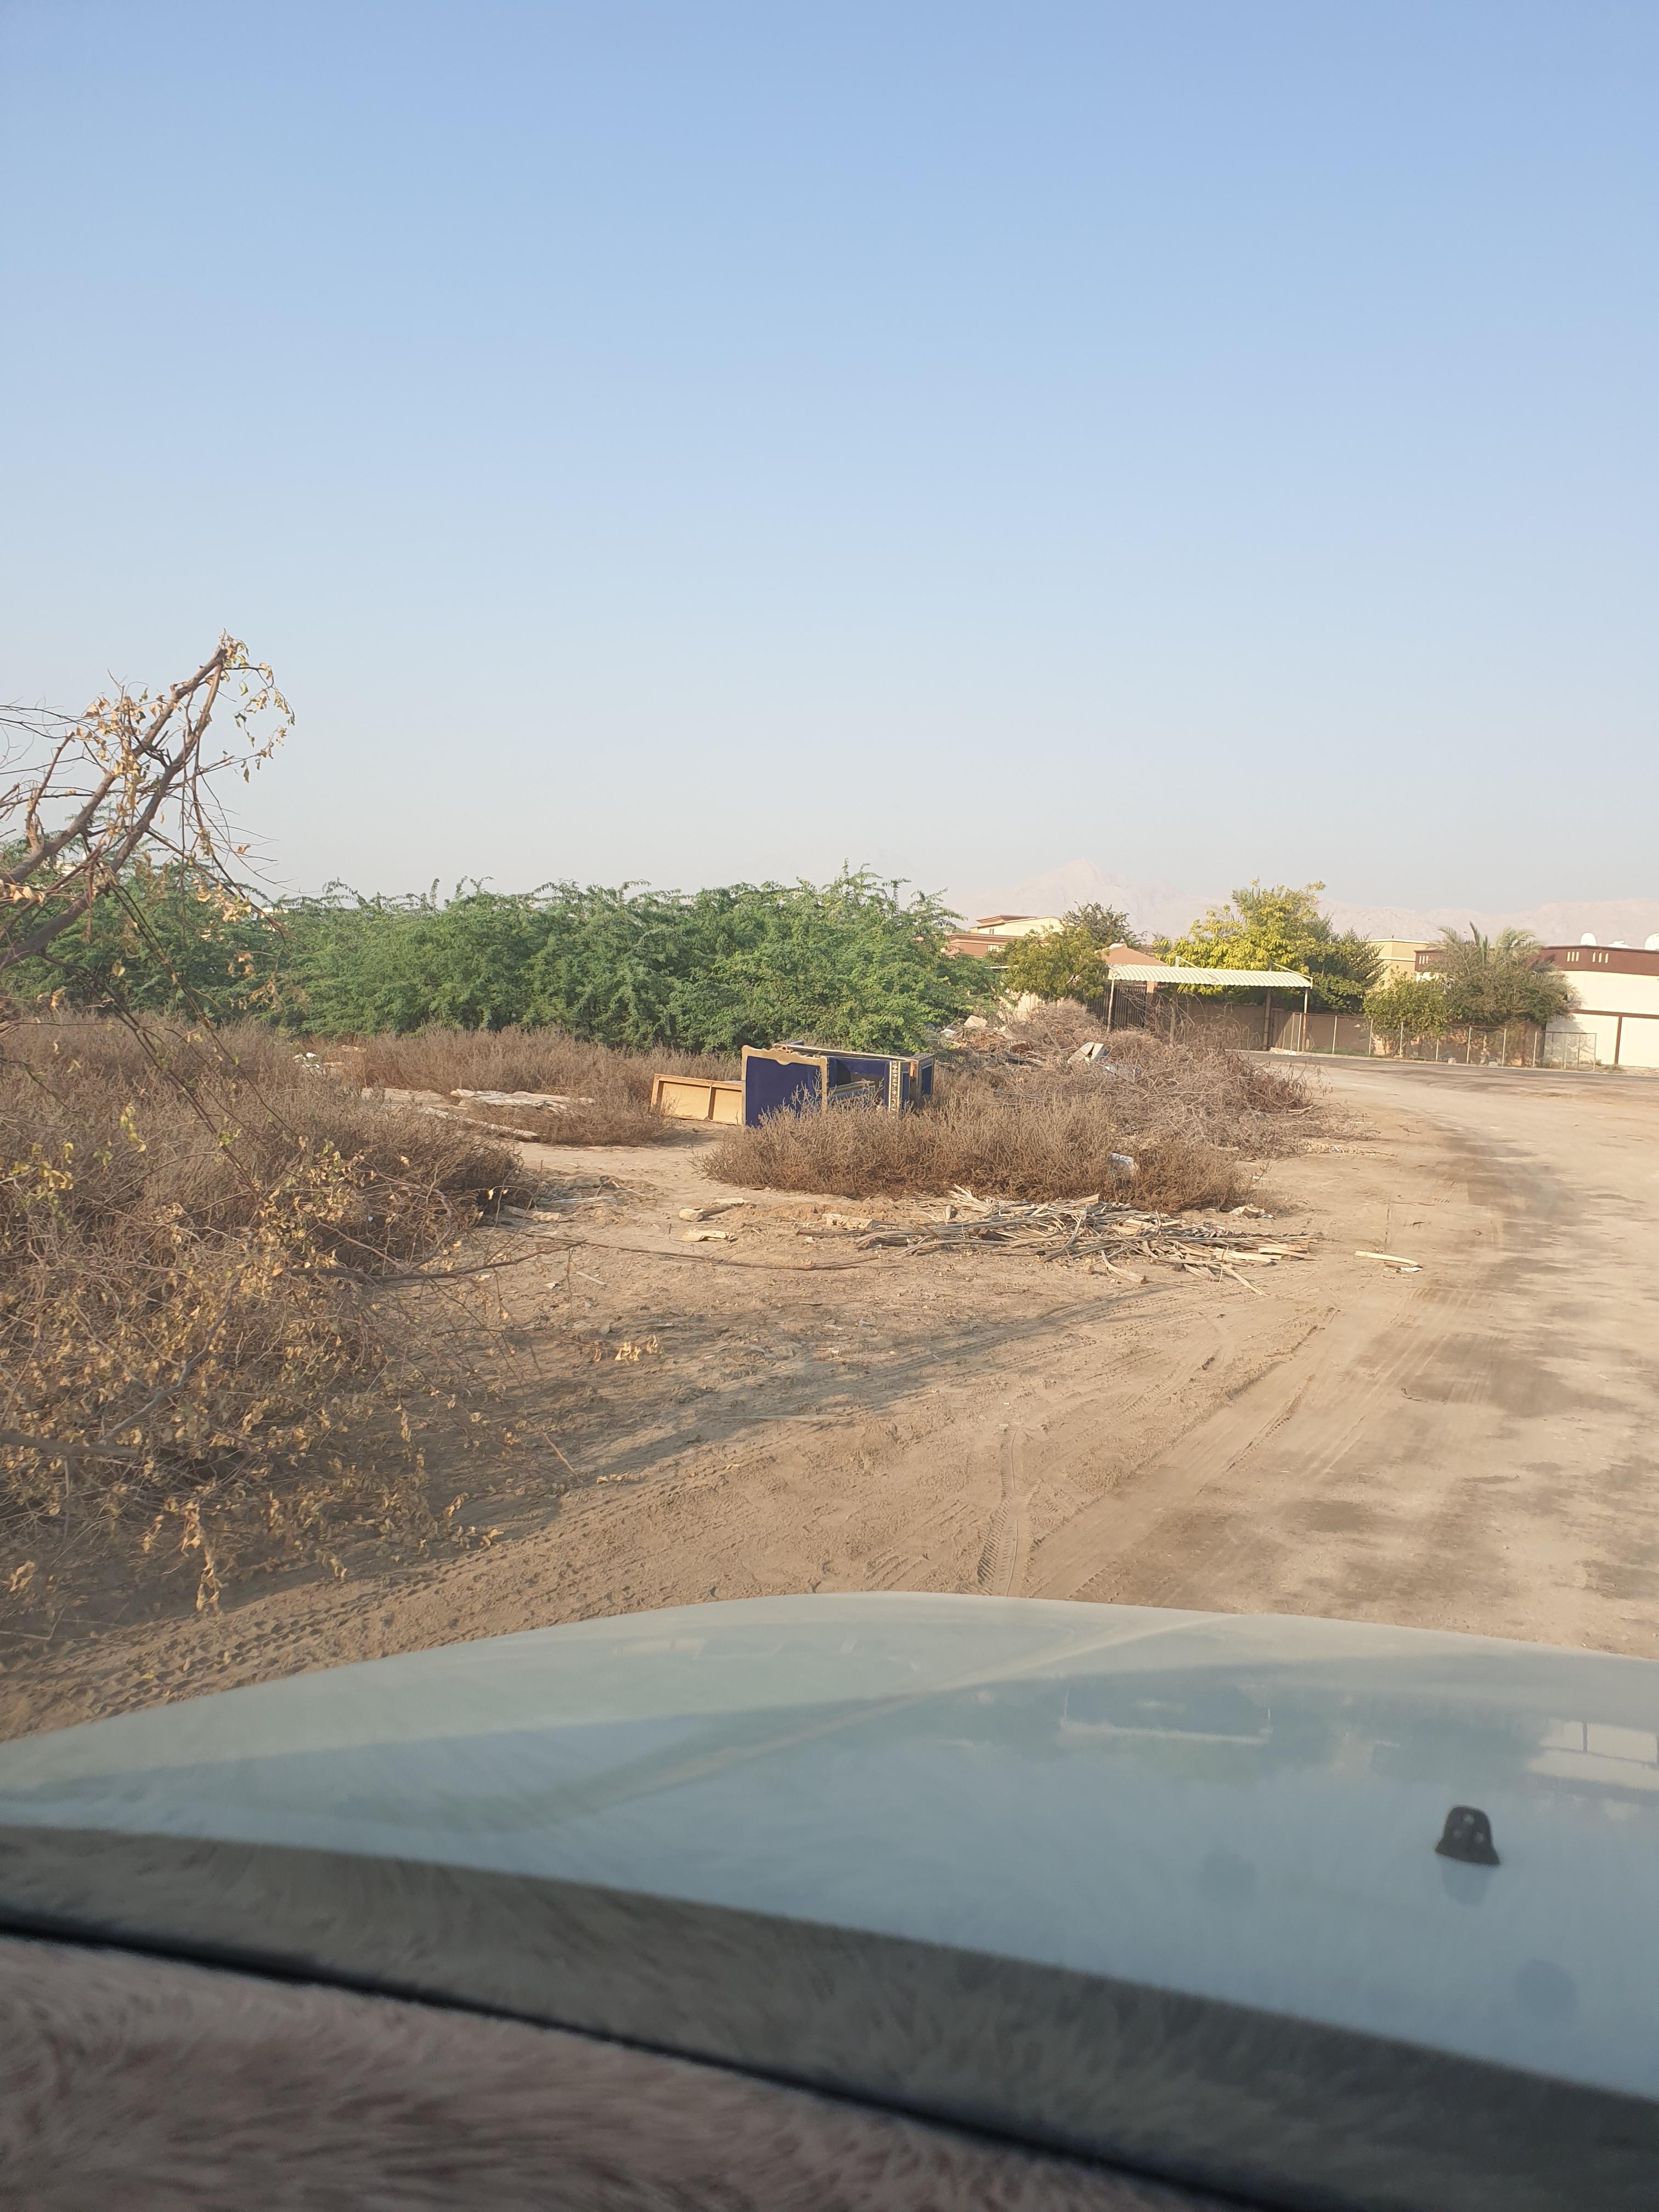fallen_trees: (910, 1197, 1328, 1291)
uncollected_waste: (702, 1033, 960, 1141)
